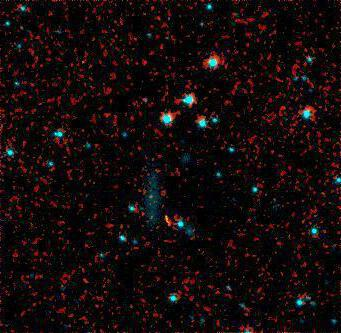star: (152, 212, 182, 242)
